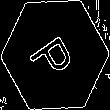P_NE: (27, 26, 83, 84)
